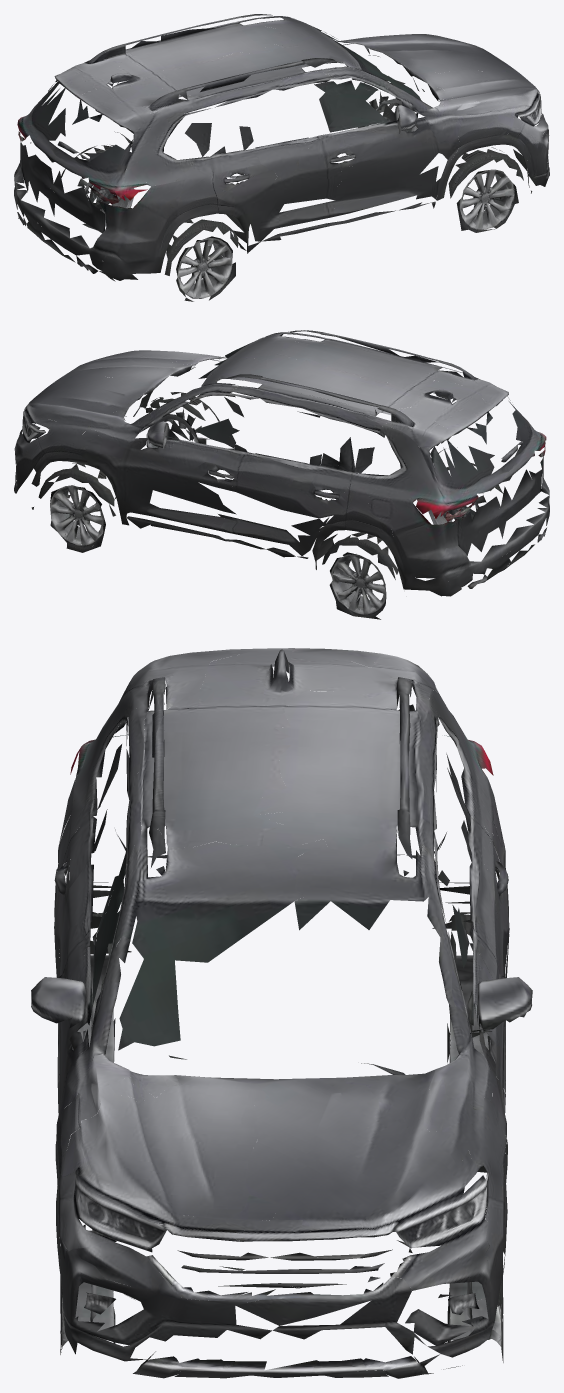
File: suv-paint.glb
3 views of the same model, one above another, from view 1: azimuth 30°, elevation 25°; view 2: azimuth 150°, elevation 25°; view 3: azimuth 270°, elevation 25° (orthographic). The views are drawn at different scales.
Parts seen in each view (by area): view 1: tripo_node_9c6d8679-9dee-417a-81f4-14be73aafedb; view 2: tripo_node_9c6d8679-9dee-417a-81f4-14be73aafedb; view 3: tripo_node_9c6d8679-9dee-417a-81f4-14be73aafedb.
Boxes of the visible parts, box(x1,y1,x2,y2) form: tripo_node_9c6d8679-9dee-417a-81f4-14be73aafedb: box(14, 14, 549, 301); tripo_node_9c6d8679-9dee-417a-81f4-14be73aafedb: box(14, 330, 549, 619); tripo_node_9c6d8679-9dee-417a-81f4-14be73aafedb: box(31, 648, 532, 1378).
Bounding box in the file's own units: 4.9 × 1.95 × 2.24.
1 material, 1 textured.
